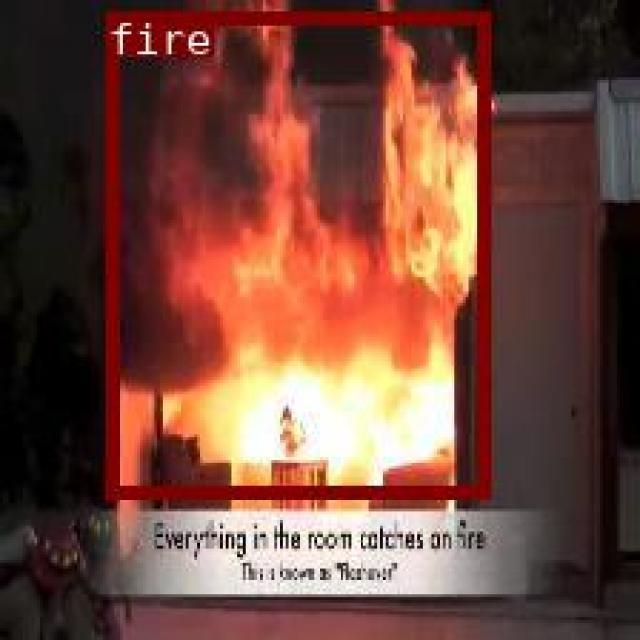fire: (105, 11, 487, 496)
